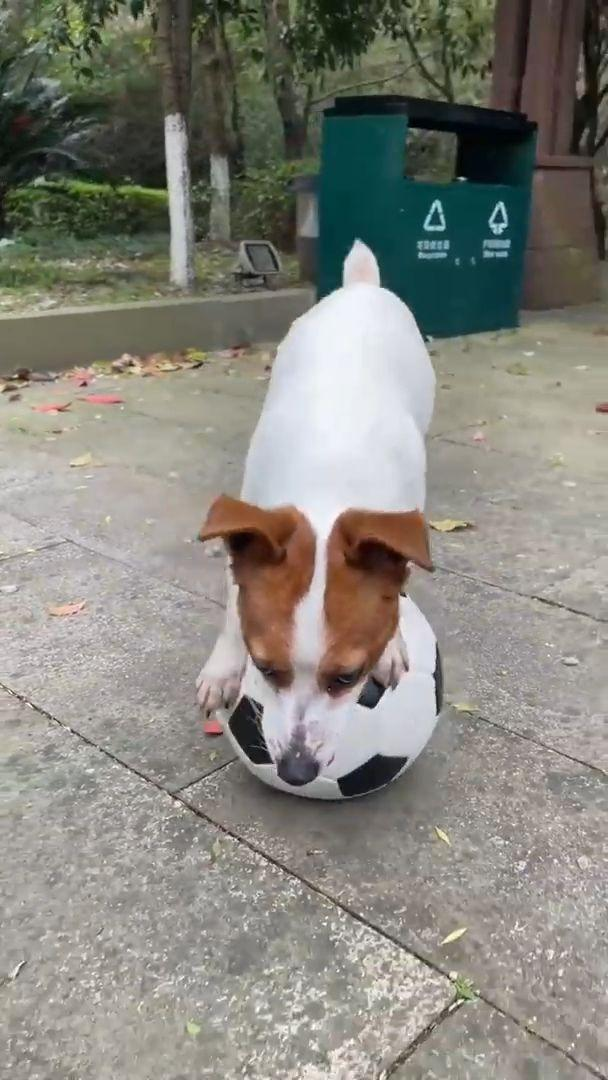adult_dog: (191, 236, 439, 789)
